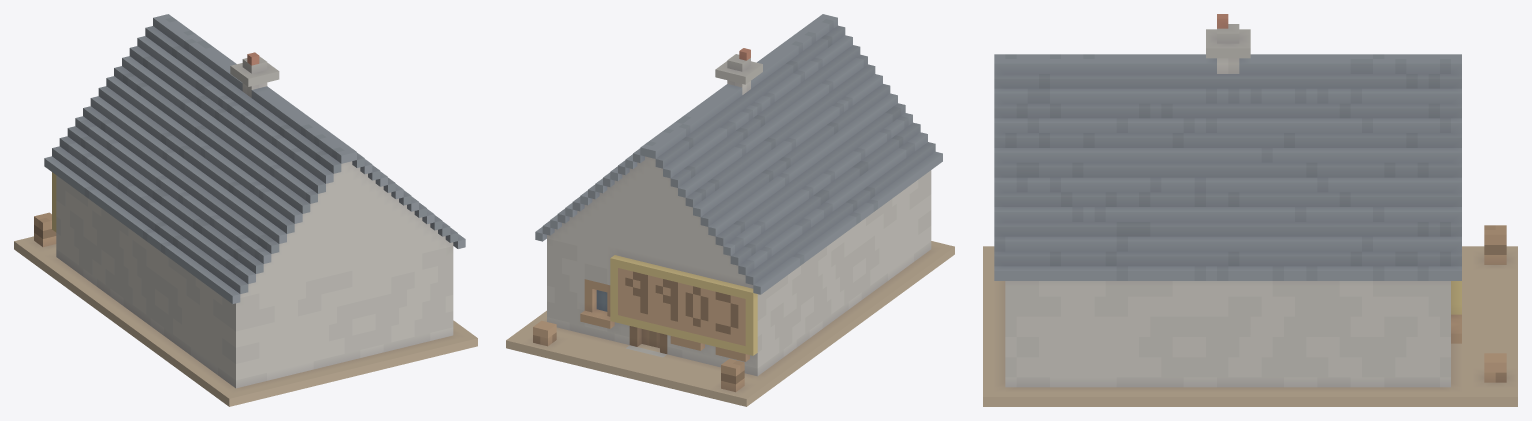
Rendered from copper_smelter.glb.
The picture shows the model from 3 angles, left to right: view 1: azimuth 30°, elevation 25°; view 2: azimuth 150°, elevation 25°; view 3: azimuth 270°, elevation 25°; orthographic projection. The views are drawn at different scales.
Parts seen in each view (by area): view 1: copper_smelter; view 2: copper_smelter; view 3: copper_smelter.
Boxes of the visible parts, box(x1,y1,x2,y2) form: copper_smelter: box(14, 14, 477, 406); copper_smelter: box(506, 14, 954, 406); copper_smelter: box(983, 14, 1517, 406).
Bounding box in the file's own units: 4 × 3.88 × 6.
